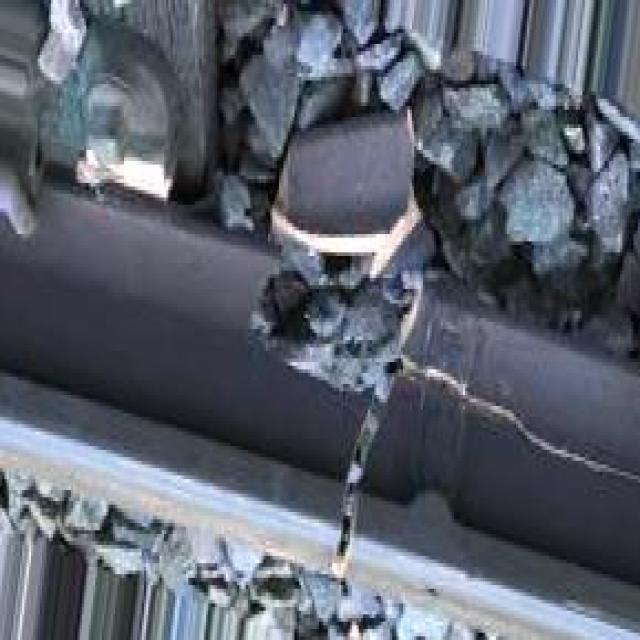crack: (287, 202, 471, 621)
